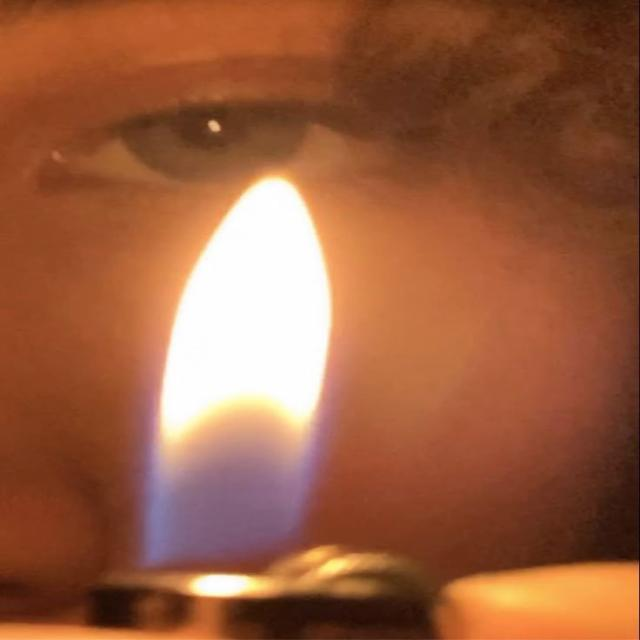fire: (144, 178, 334, 559)
